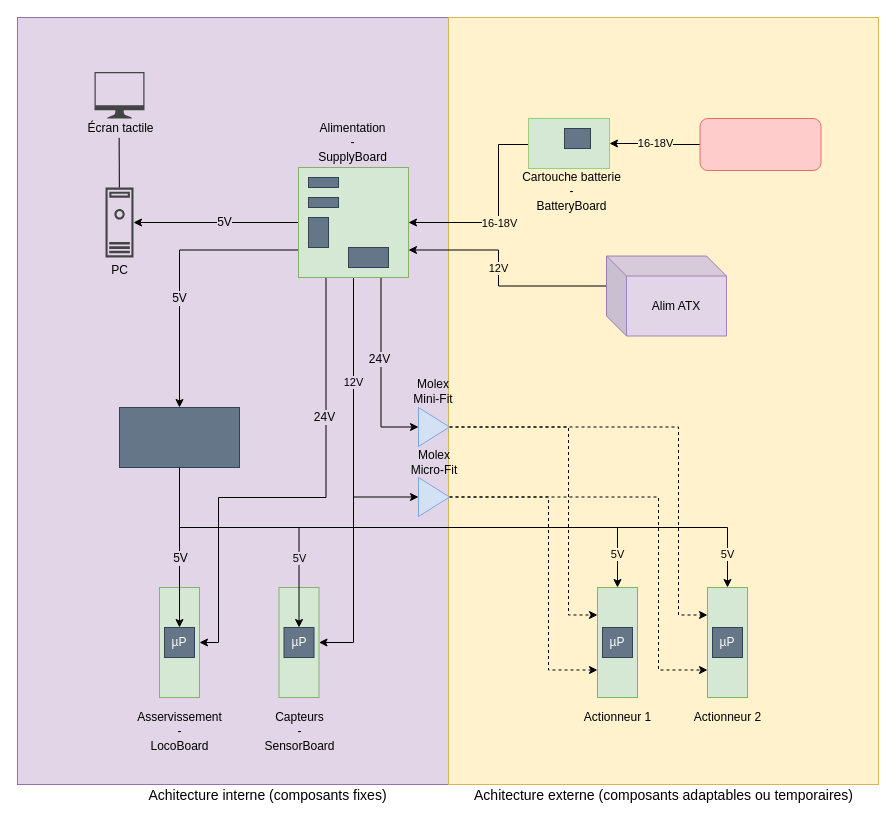
The diagram is 896 pixels wide and 822 high, and some of its shapes have lost their labels. Here are the shapes that lost their labels. From the top down, the centre of each, then its label:
At point (760, 144): "Batterie LiPo".
At point (179, 437): "Hub USB".
